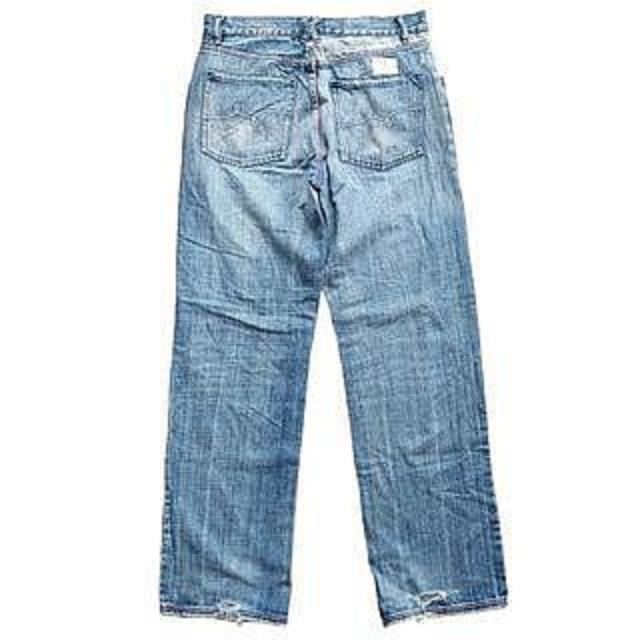TROUSER: (142, 7, 522, 640)
